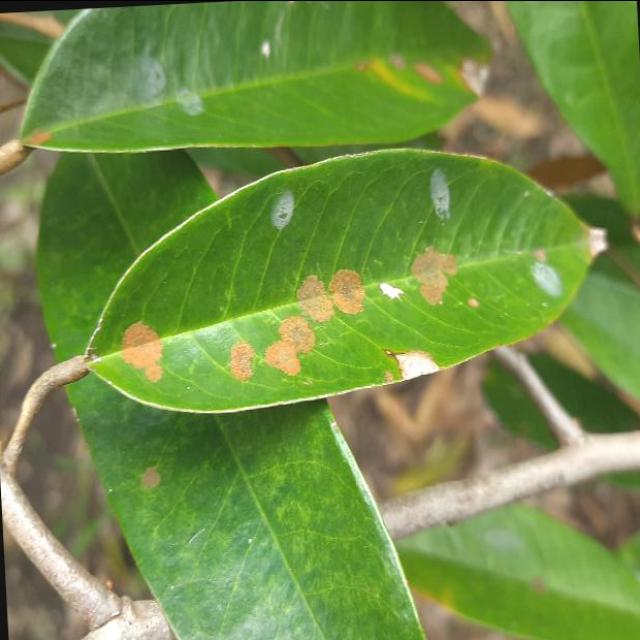Algal Leaf Spot: (67, 126, 625, 432)
